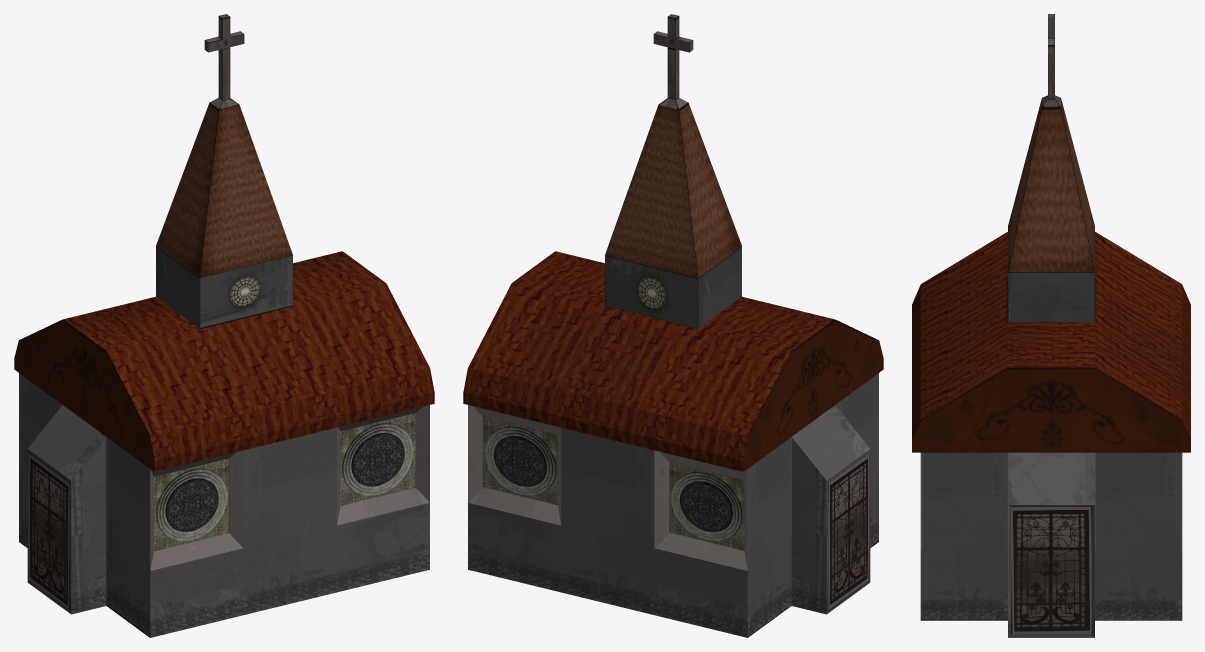
The model's file is church_low_poly.glb.
3 views of the same model, side by side, from view 1: azimuth 30°, elevation 25°; view 2: azimuth 150°, elevation 25°; view 3: azimuth 270°, elevation 25° (orthographic).
Visible parts, largest first — view 1: Box001; view 2: Box001; view 3: Box001.
Boxes of the visible parts, bbox=[...] form: Box001: bbox=[14, 14, 434, 637]; Box001: bbox=[463, 14, 883, 637]; Box001: bbox=[912, 14, 1190, 637].
Size of the model in its own units: 269 by 395 by 186.
Materials: 1 (1 with a texture image).
